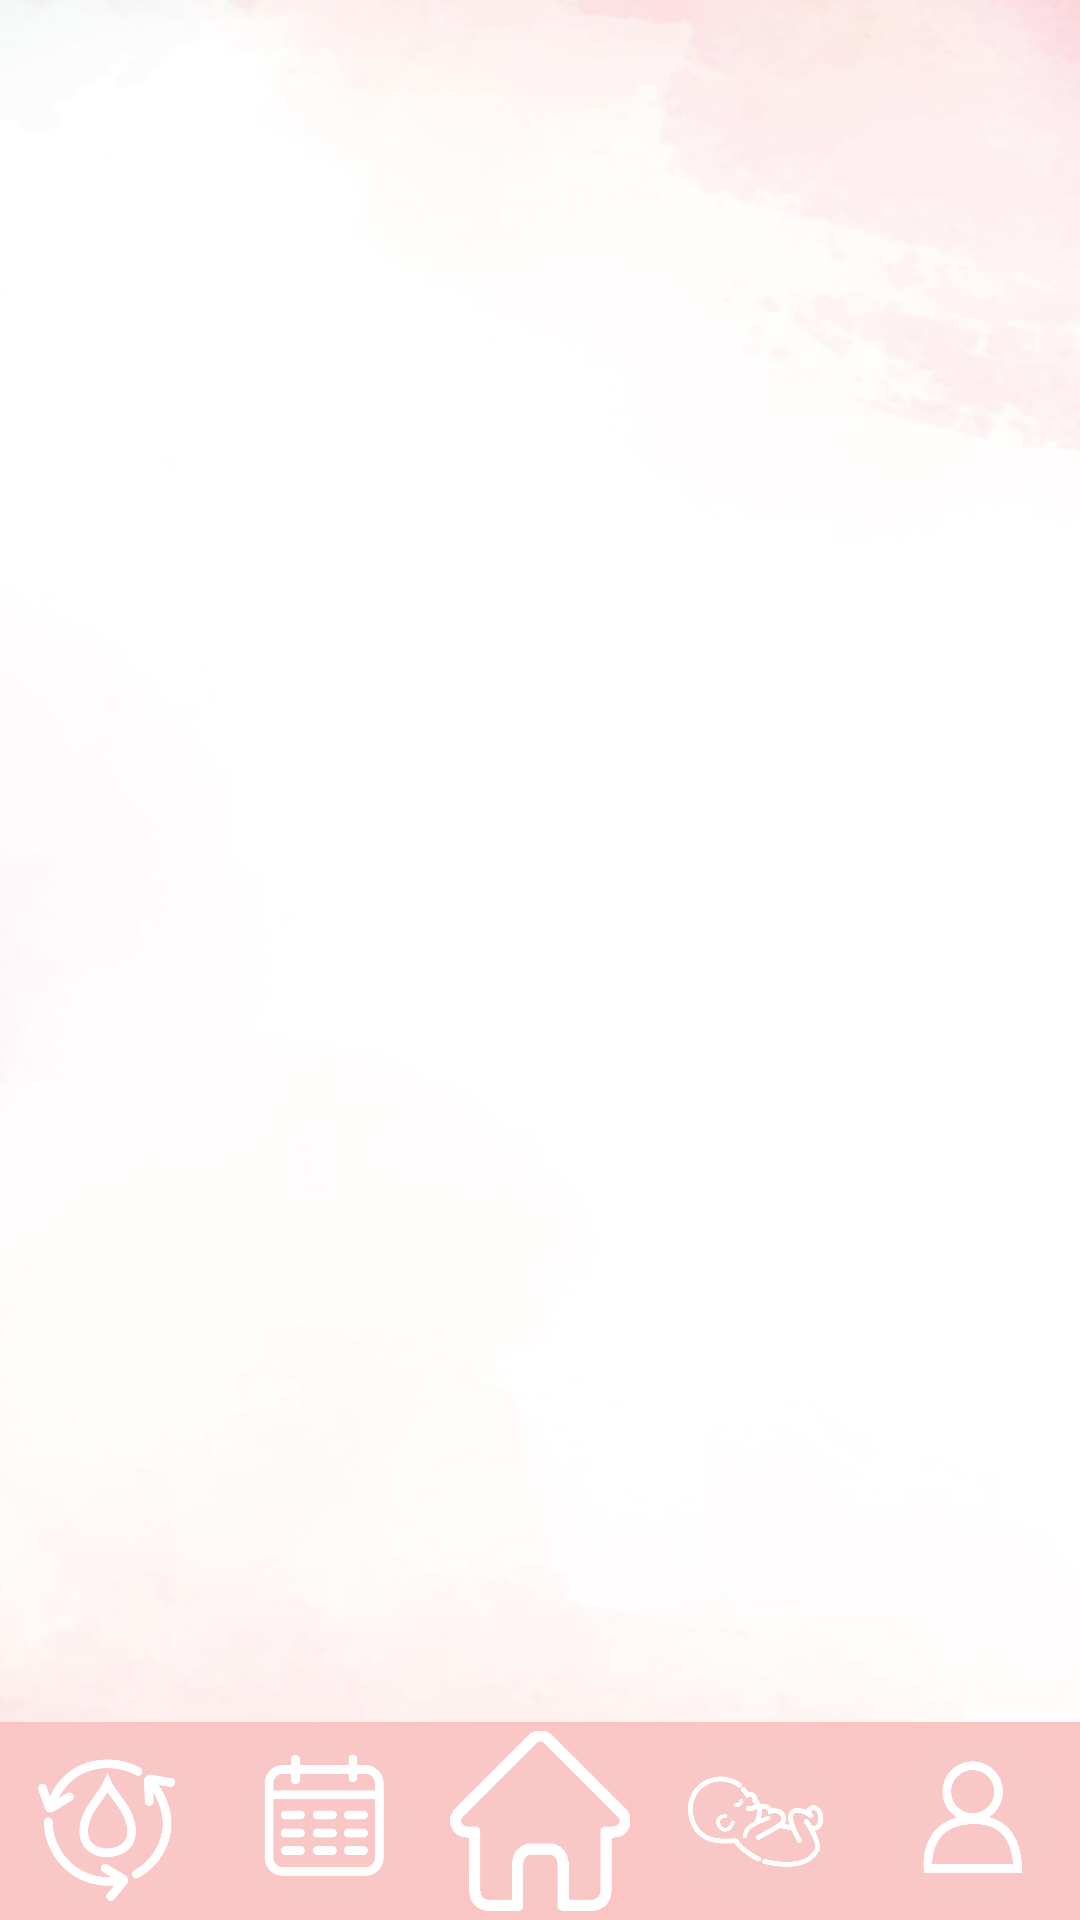

Locate icon controls on the screen. Image size 1080px x 1920px, boxes as (x1,y1,x2,y2).
calendar: (265,1755,384,1876)
labor: (688,1776,823,1867)
main: (450,1731,630,1911)
personal info: (923,1761,1022,1873)
